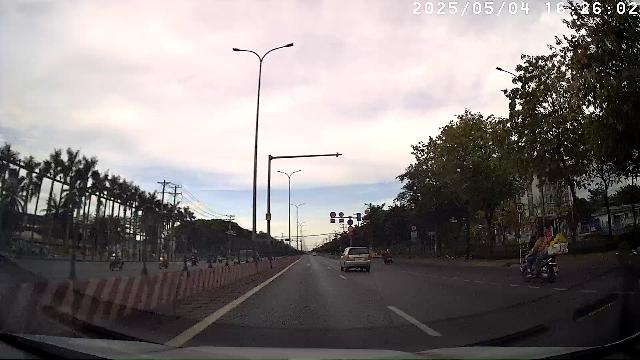127-toc-do-toi-da-50: (516, 202, 524, 212)
